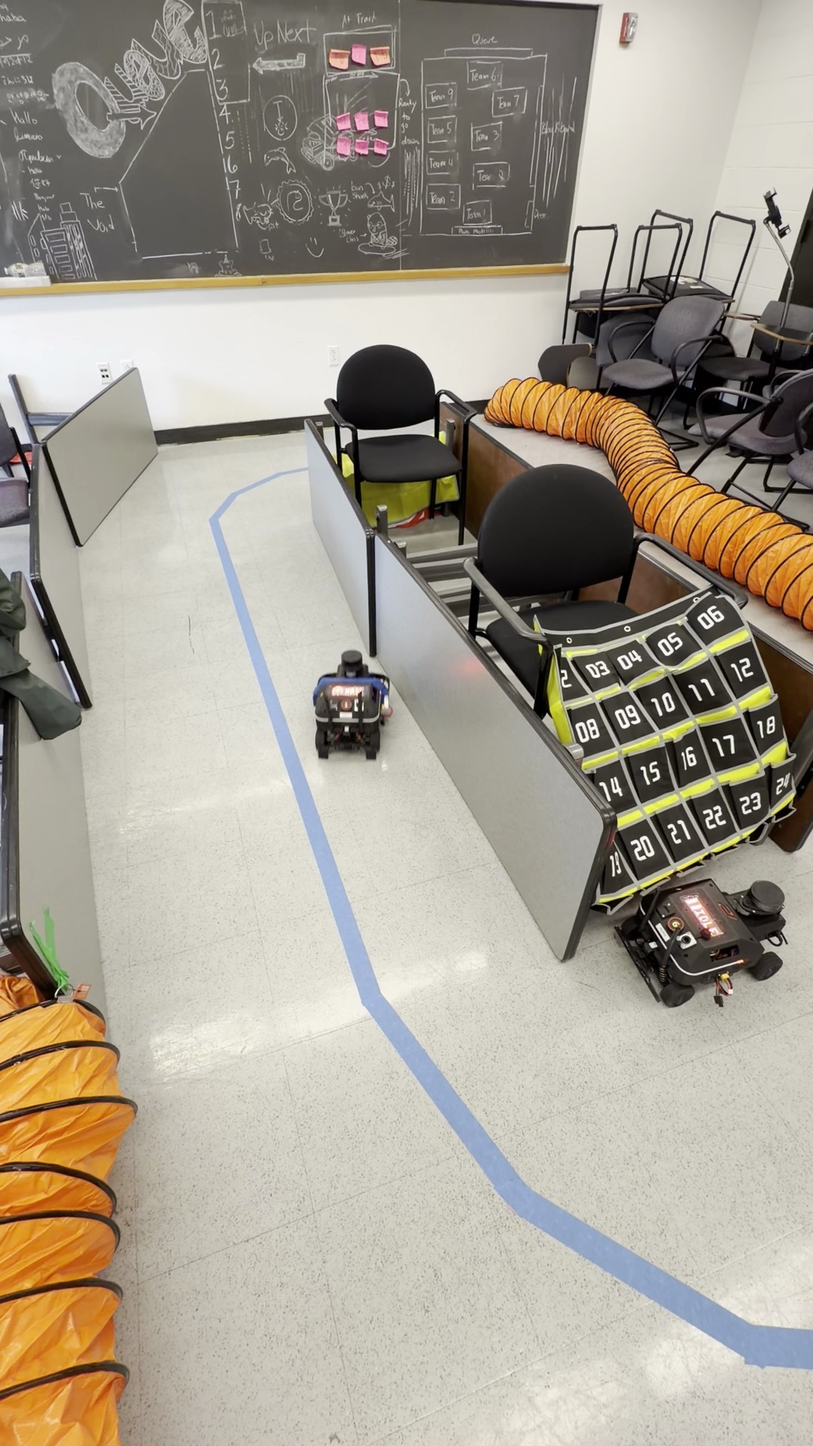racecar: (614, 880, 788, 1008), (311, 652, 390, 757)
